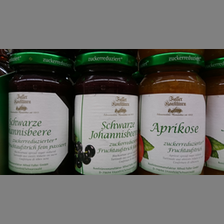jam: (139, 52, 208, 174), (72, 52, 140, 175), (6, 52, 73, 175)
